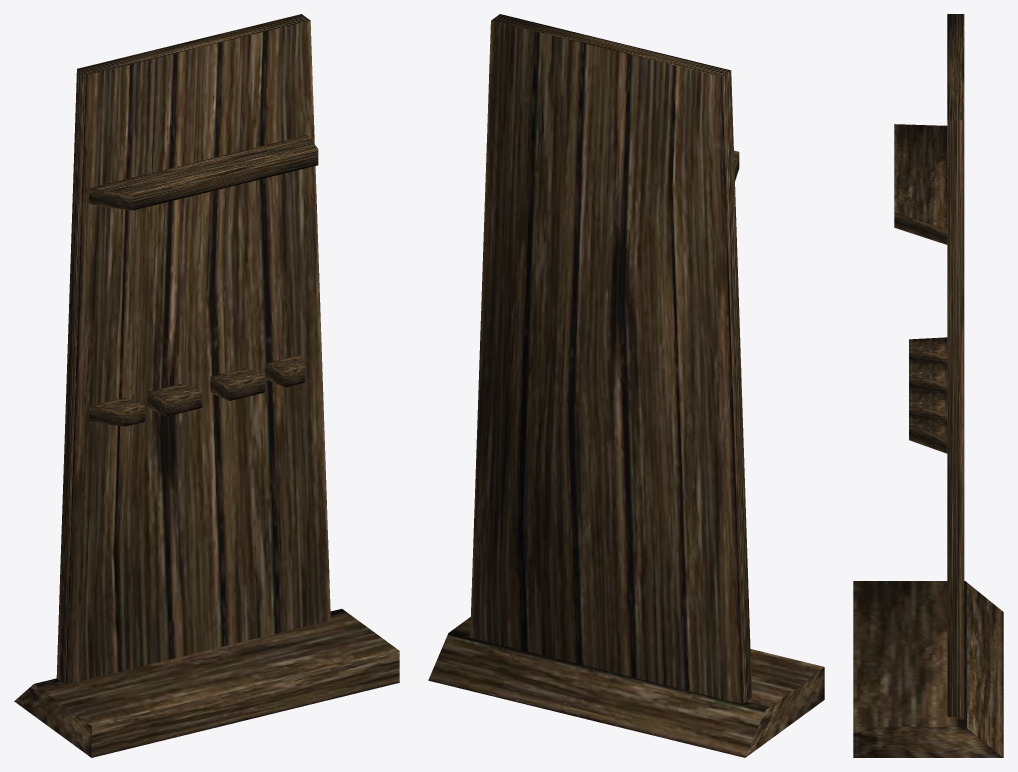
Rendered from OC_WEAPON_SHELF_EMPTY_V1.glb.
The picture shows the model from 3 angles, left to right: view 1: azimuth 30°, elevation 25°; view 2: azimuth 150°, elevation 25°; view 3: azimuth 270°, elevation 25°; orthographic projection. The views are drawn at different scales.
Parts seen in each view (by area): view 1: Mesh; view 2: Mesh; view 3: Mesh.
Part boxes in pixels (bbox=[...]): Mesh: bbox=[14, 14, 399, 757]; Mesh: bbox=[428, 14, 824, 757]; Mesh: bbox=[853, 14, 1003, 757].
Bounding box in the file's own units: 1 × 1.98 × 0.4357.
Materials: 1 (1 with a texture image).
